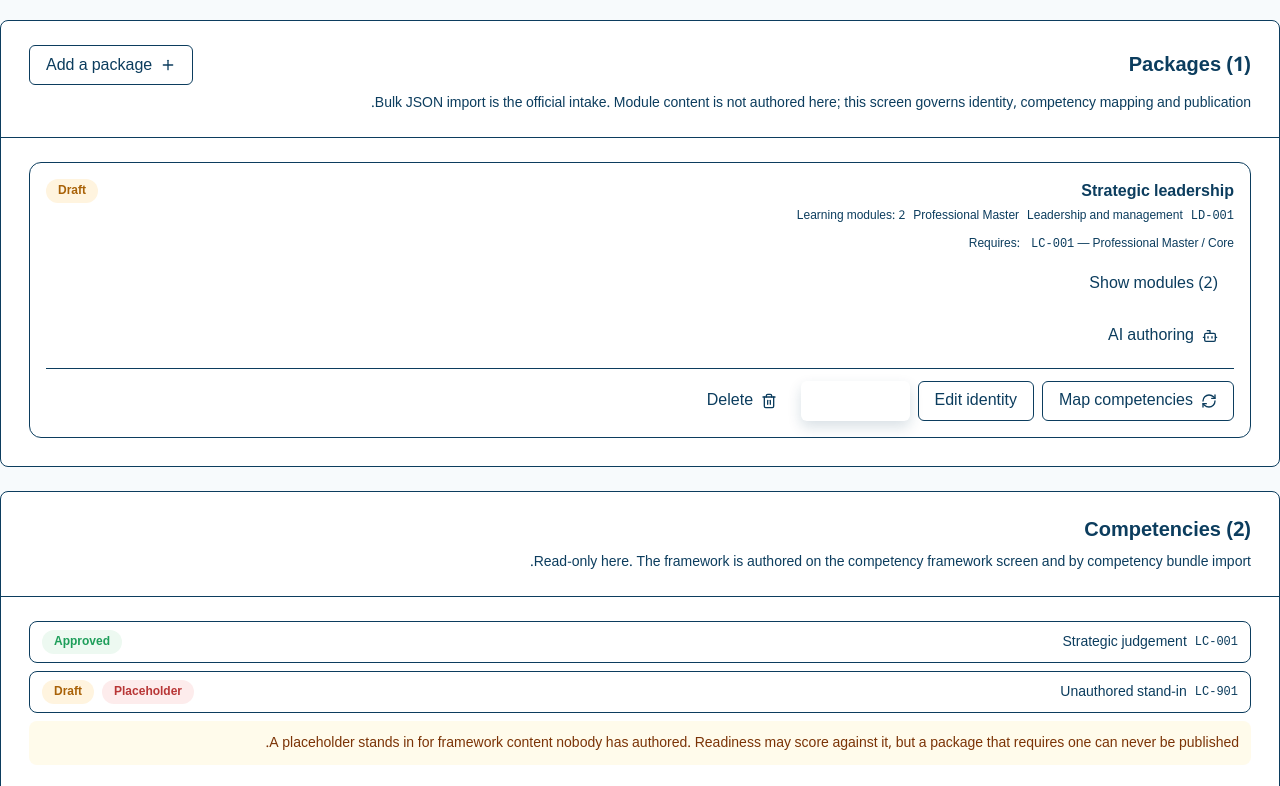
it: AcademicLibraryPage › answers ACADEMIC_PACKAGE_NO_SCHOOL with the sentence for that code
This screenshot has width=1280, height=786.
(page scrolled)
What coordinates should you click on to do the following:
click the button "Publish"
I would click on:
 (855, 401)
Its box is [801,381,910,421].
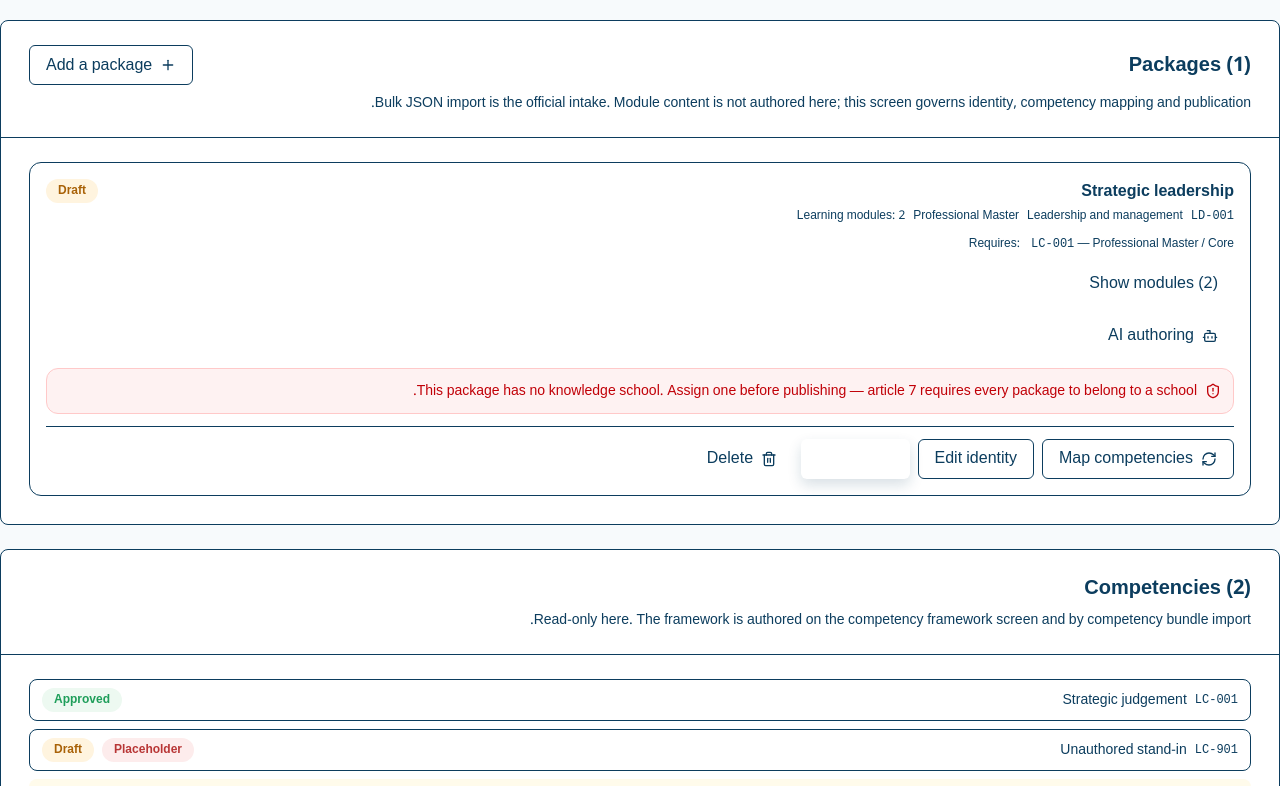
Expected: the text "article 7 requires every package to belong to a school" is shown, [413,376,1197,405]
